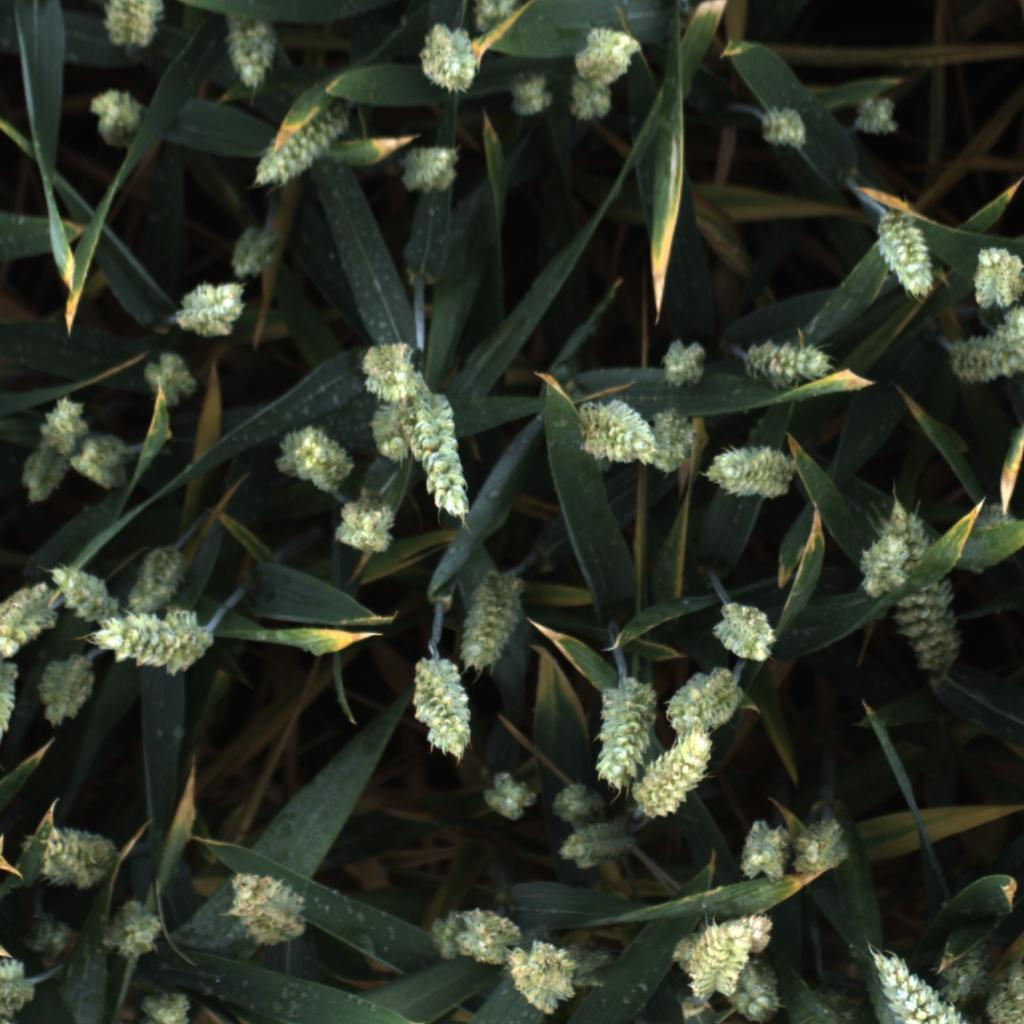0-0: (879, 502, 958, 672), (671, 927, 791, 1024), (407, 386, 480, 523), (863, 937, 969, 1024), (81, 606, 211, 675), (243, 114, 344, 196), (689, 914, 774, 1003), (222, 865, 312, 949), (422, 898, 525, 971), (937, 303, 1024, 389), (590, 679, 657, 789), (634, 730, 718, 817), (454, 576, 527, 673), (411, 658, 475, 766), (573, 398, 659, 471), (271, 422, 353, 496), (663, 667, 745, 741), (875, 209, 939, 303), (32, 824, 120, 892), (706, 443, 800, 504), (173, 272, 256, 339), (505, 939, 576, 1017), (417, 23, 484, 102), (0, 575, 60, 663), (847, 524, 913, 602), (360, 336, 434, 405), (221, 8, 278, 96), (744, 335, 835, 390), (36, 653, 97, 732), (570, 22, 649, 83), (134, 343, 204, 411), (81, 86, 152, 153), (47, 560, 123, 622), (711, 600, 782, 665), (784, 815, 850, 884), (68, 428, 133, 498), (389, 139, 467, 197), (96, 898, 166, 962), (964, 240, 1024, 314), (330, 496, 402, 557), (550, 819, 634, 871), (30, 387, 94, 454), (9, 437, 69, 508), (218, 221, 284, 285), (738, 813, 791, 889), (125, 546, 186, 612), (96, 0, 171, 51), (645, 412, 700, 479), (16, 904, 80, 961), (657, 331, 712, 397), (482, 763, 541, 824), (365, 401, 420, 466), (937, 947, 995, 1007), (754, 100, 814, 158), (559, 75, 618, 129), (850, 90, 905, 142), (502, 68, 557, 117), (551, 779, 609, 824), (0, 954, 40, 1012), (139, 990, 200, 1024), (0, 649, 16, 732), (467, 0, 512, 25)
